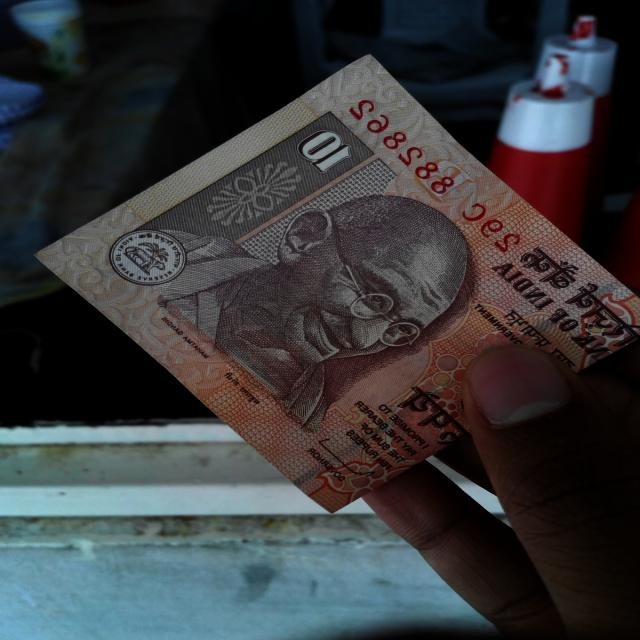10rs: (33, 52, 632, 514)
